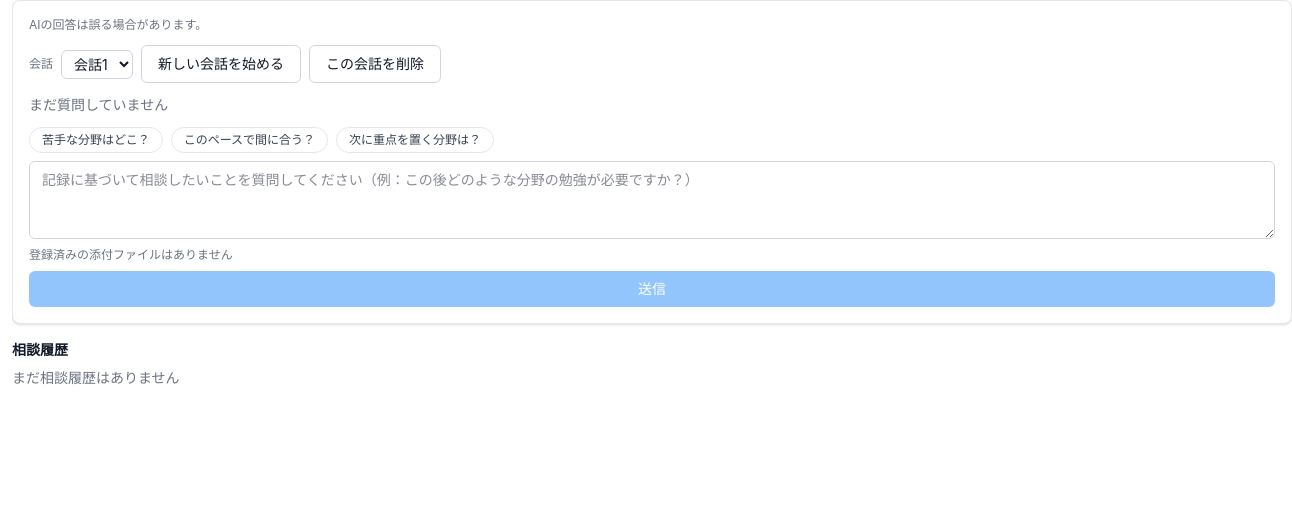
Test: GoalConsultationTab › AI未接続のエラーは接続案内を出す
The width and height of the screenshot is (1292, 522).
Type "質問" into the text box labelled "記録に基づいて相談したいことを質問してください（例：この後どのような分野の勉強が必要ですか？）" at (652, 200), box [29,161,1275,239]
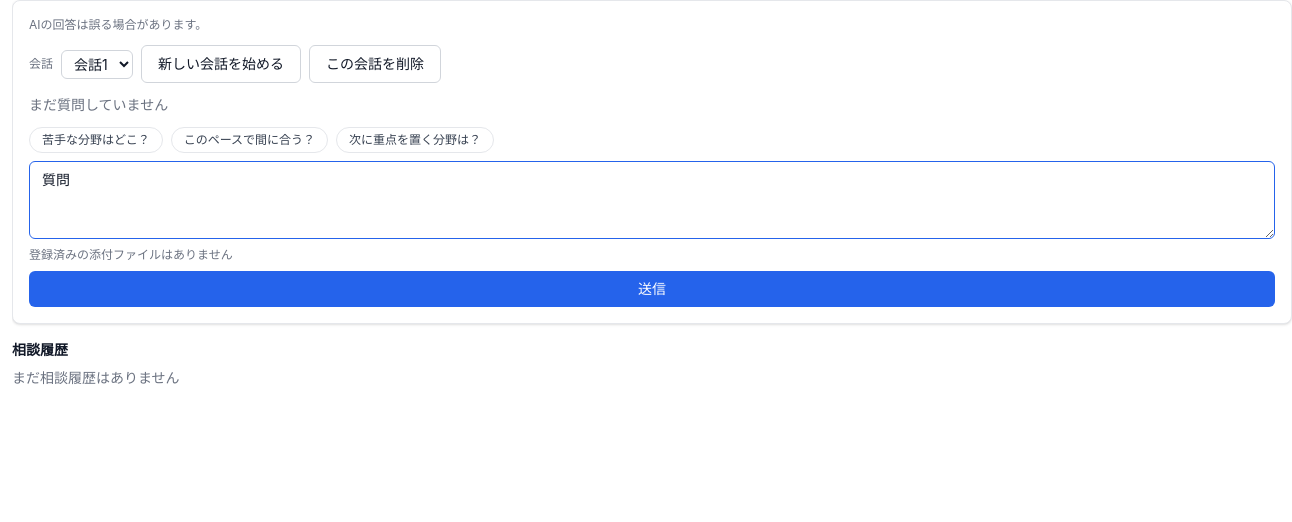
Click the button "送信" at (652, 289), box [29,271,1275,307]
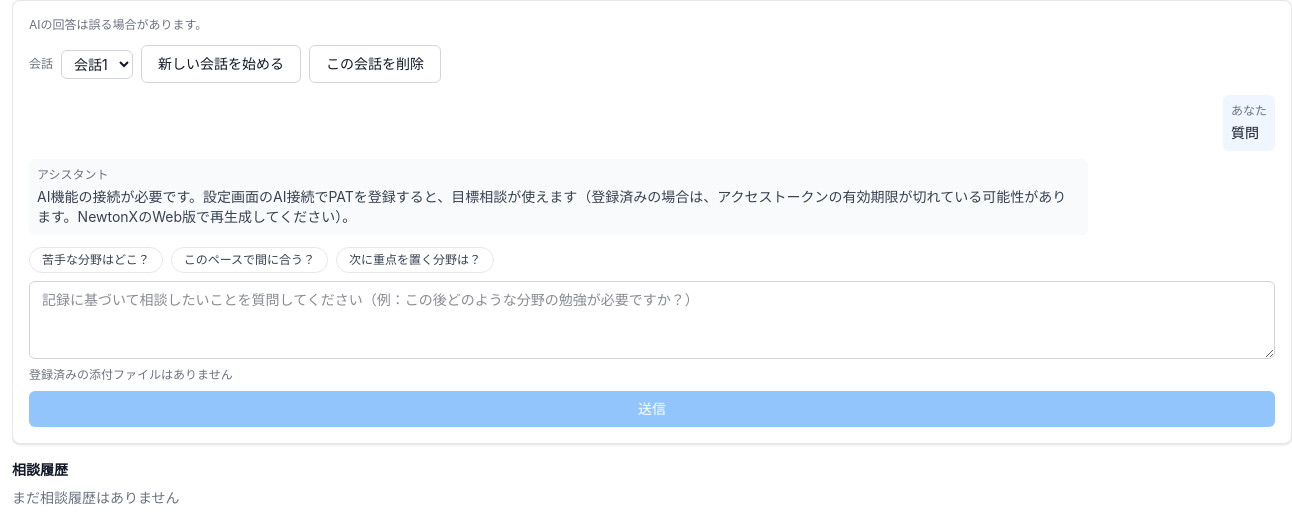
expect the text "AI機能の接続が必要です。設定画面のAI接続でPATを登録すると、目標相談が使えます（登録済みの場合は、アクセストークンの有効期限が切れている可能性があります。NewtonXのWeb版で再生成してください）。" is shown: met, box [37,188,1066,225]
